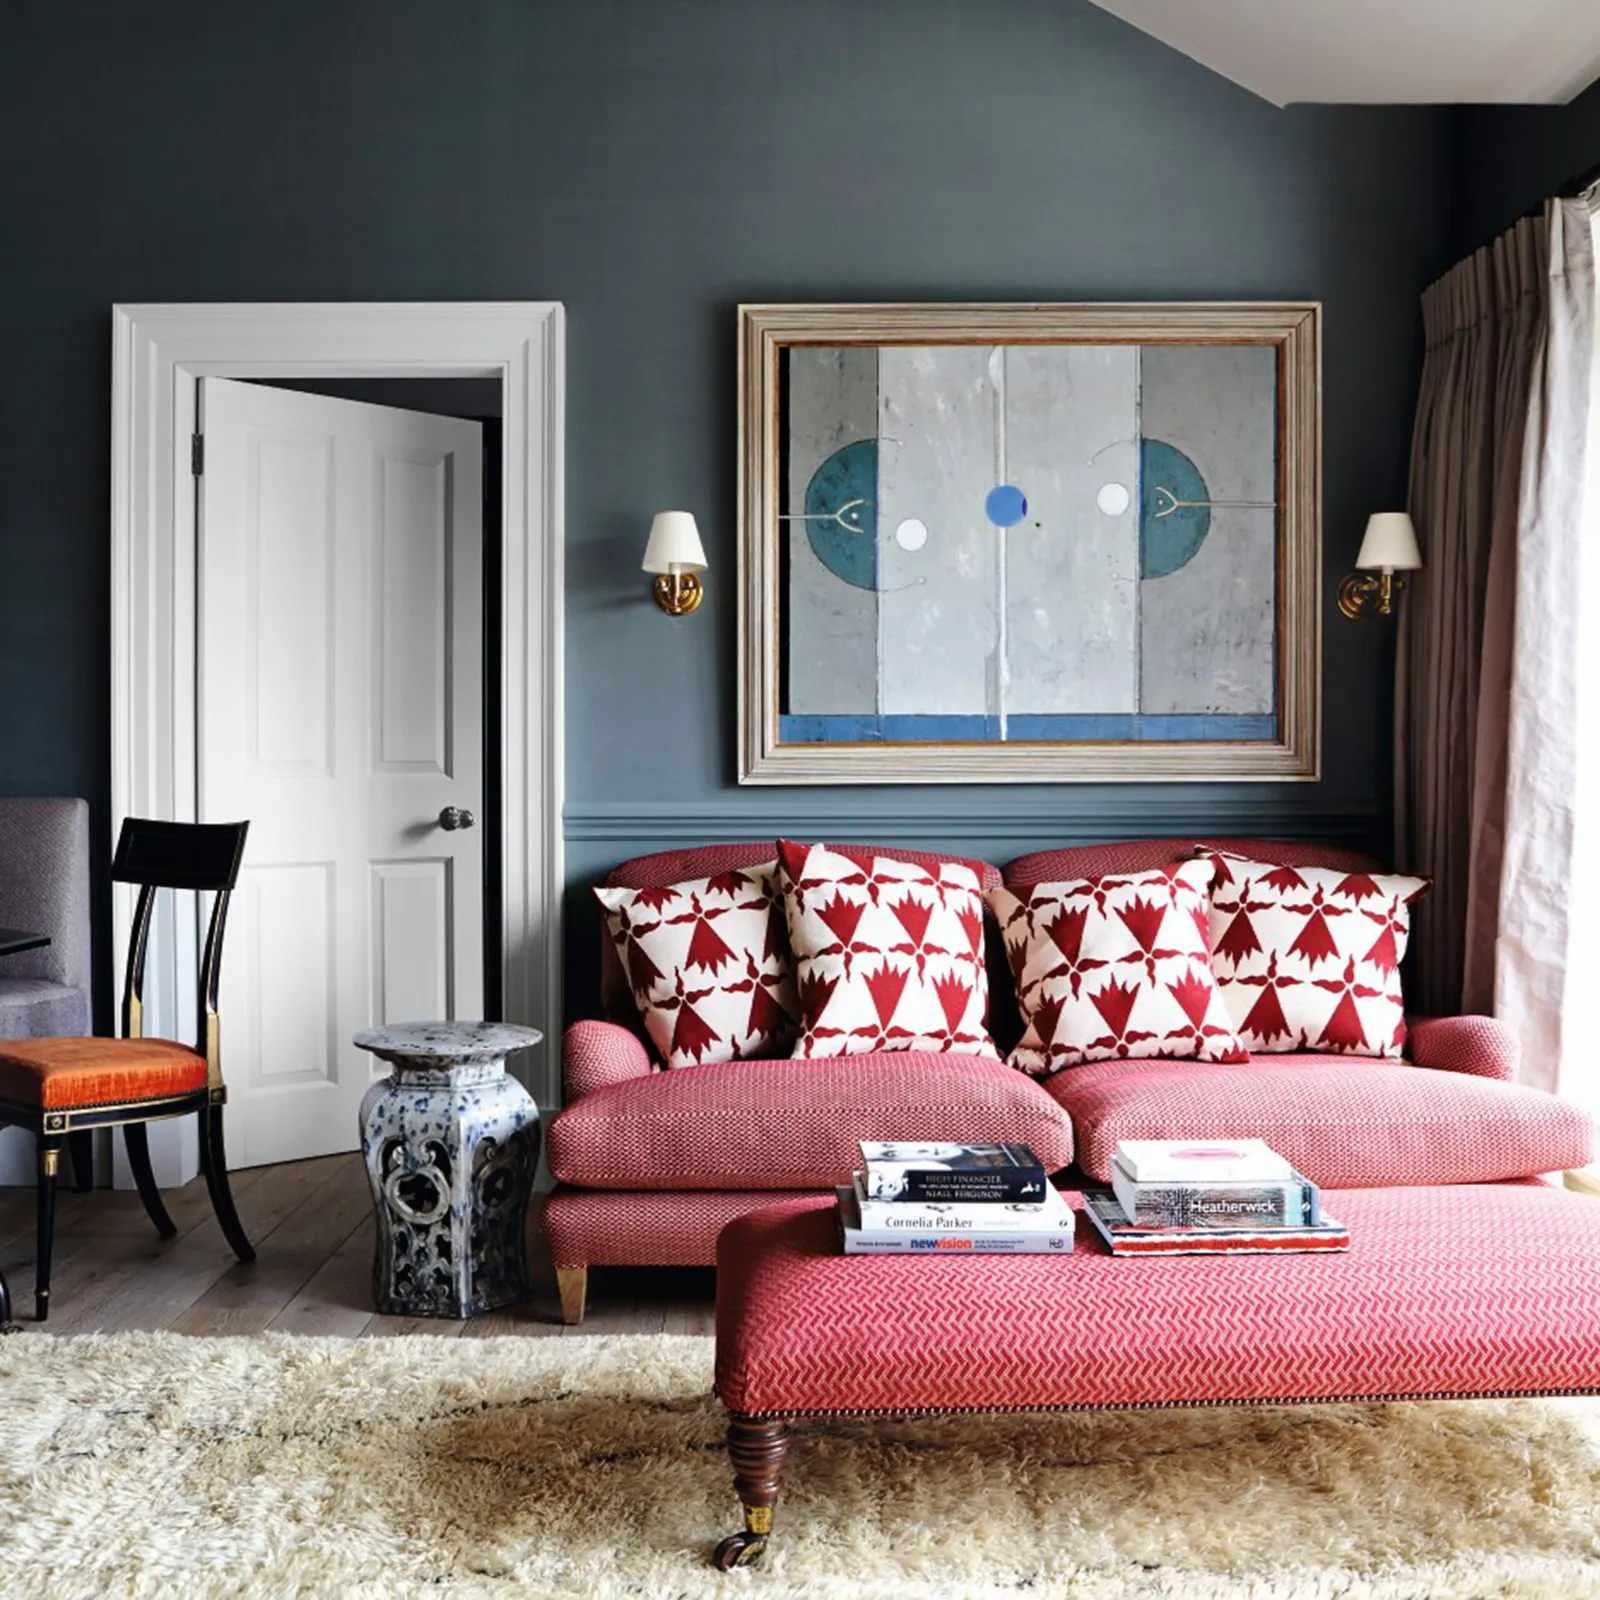chair: (4, 809, 268, 1326)
sofa: (541, 842, 1600, 1333)
table: (706, 1172, 1600, 1558)
wall art: (722, 278, 1330, 796)
